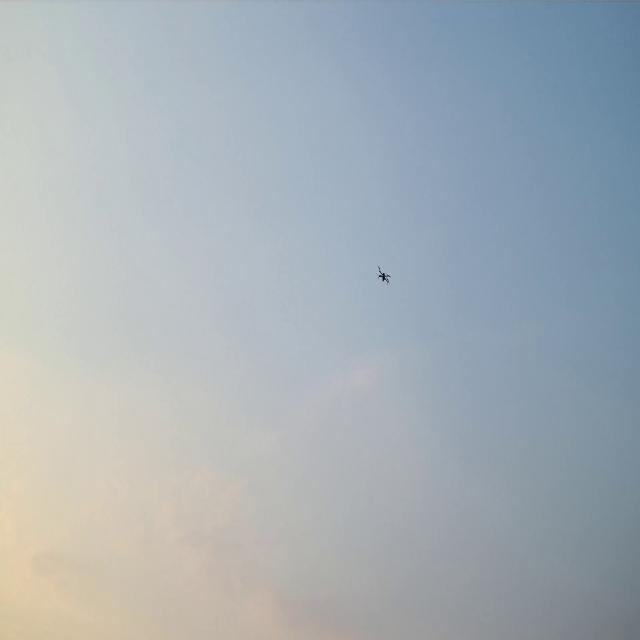UAV: (379, 268, 389, 282)
